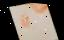plaque psoriasis: (26, 2, 50, 14), (18, 12, 32, 29)
